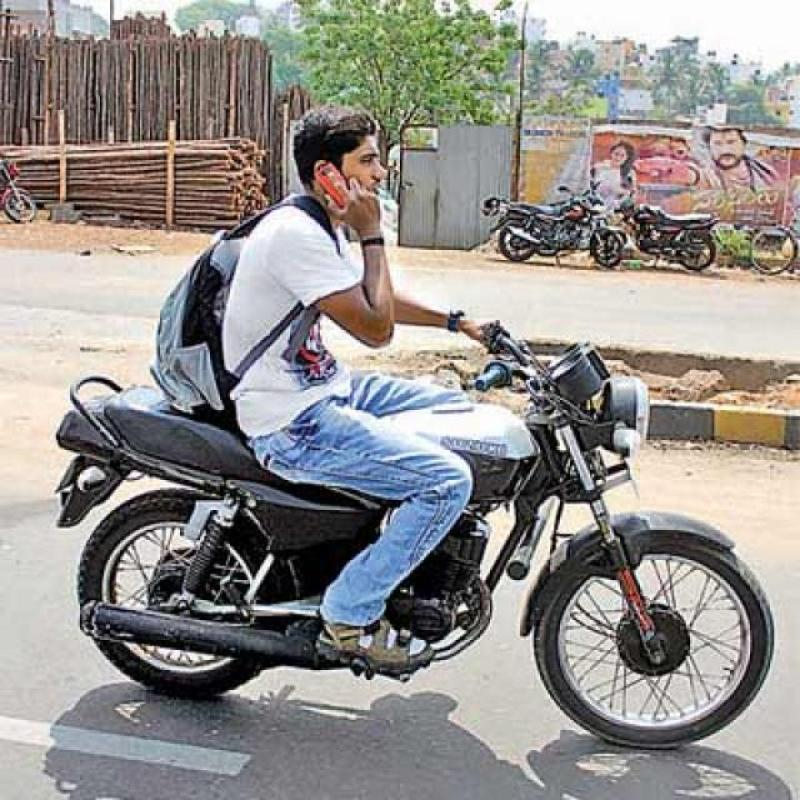nohelmet: (261, 70, 431, 230)
